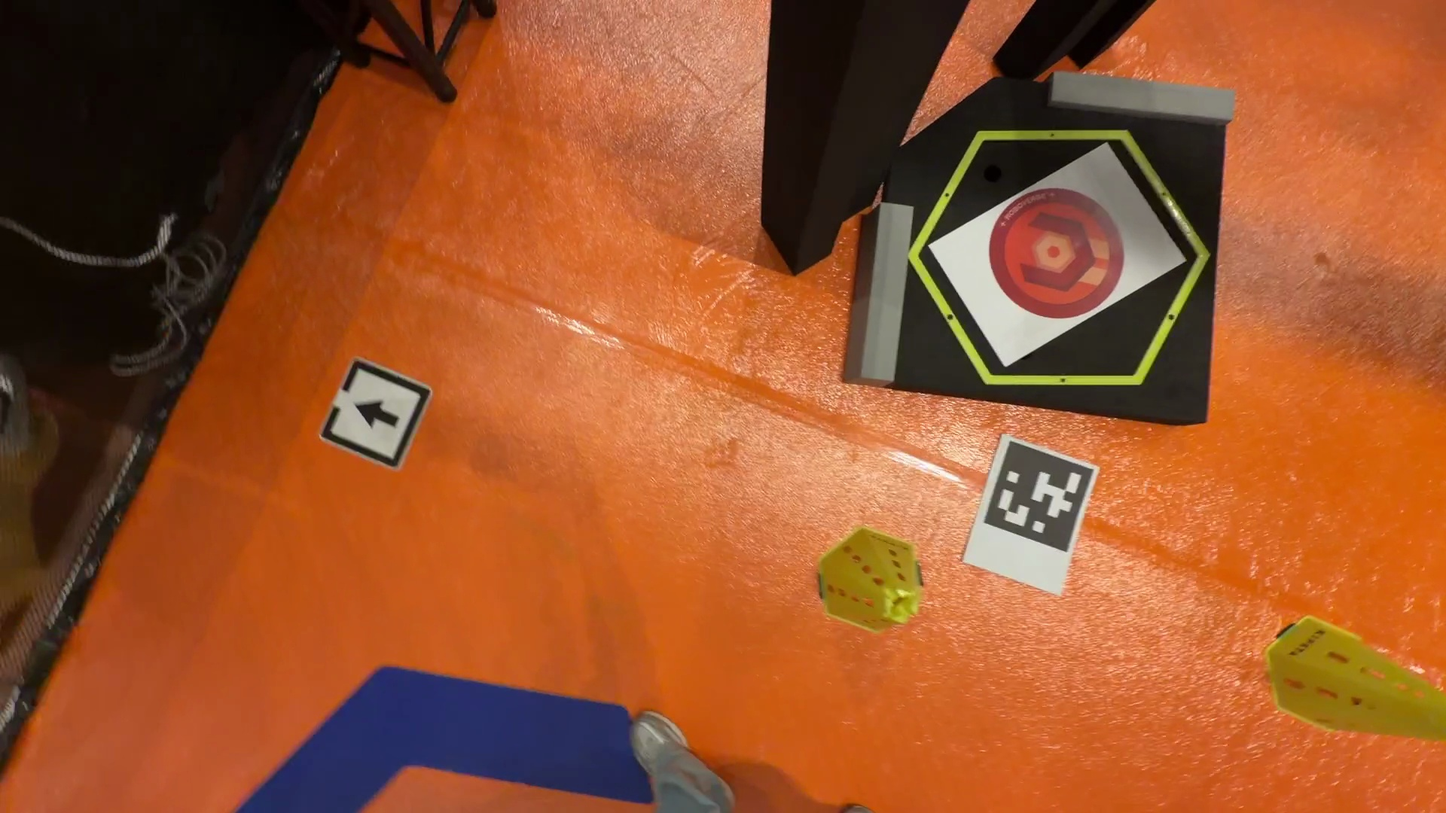landing_pad: (989, 190, 1126, 321)
